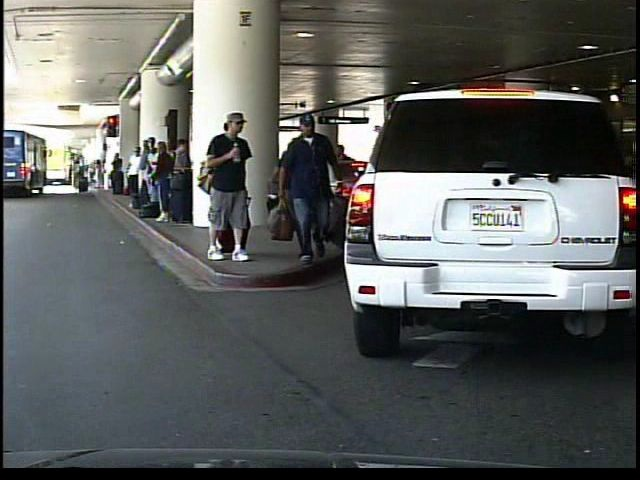person: (279, 103, 350, 266), (205, 108, 261, 264)
